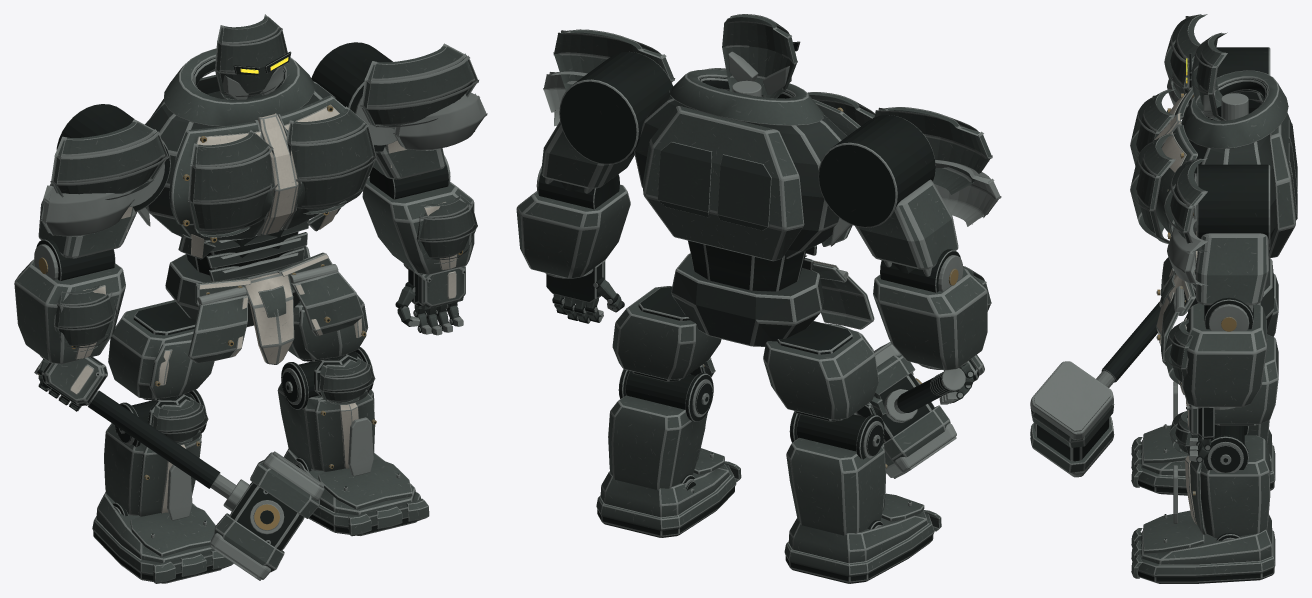
Rendered from tank-t3-harrow.glb.
3 renders of one model, left to right at view 1: azimuth 30°, elevation 25°; view 2: azimuth 150°, elevation 25°; view 3: azimuth 270°, elevation 25°, orthographic. The views are drawn at different scales.
Visible parts, largest first — view 1: chest__clay, weaponR__metal, elbowR__clay, elbowL__clay, ankleR__clay, pelvis__metal, kneeL__clay, pauldronL__clay, pauldronR__clay, kneeR__clay, ankleL__clay, hipR__clay (+24 smaller); view 2: chest__clay, chest__metal, pelvis__metal, shoulderR__metal, shoulderL__metal, elbowR__clay, kneeR__clay, kneeL__clay, elbowL__clay, hipR__clay, ankleR__clay, ankleL__clay (+22 smaller); view 3: chest__clay, elbowL__clay, ankleL__clay, weaponR__metal, kneeL__clay, shoulderL__metal, shoulderL__clay, chest__metal, ankleR__clay, weaponR__clay, hipL__clay, pauldronL__clay (+15 smaller).
Part boxes in pixels (x1=…): chest__clay: x1=151, y1=48, x2=376, y2=259; weaponR__metal: x1=34, y1=360, x2=324, y2=580; elbowR__clay: x1=14, y1=259, x2=125, y2=364; elbowL__clay: x1=362, y1=177, x2=477, y2=274; ankleR__clay: x1=92, y1=492, x2=233, y2=583; pelvis__metal: x1=165, y1=220, x2=338, y2=326; kneeL__clay: x1=277, y1=356, x2=375, y2=471; pauldronL__clay: x1=360, y1=43, x2=478, y2=129; pauldronR__clay: x1=50, y1=119, x2=169, y2=199; kneeR__clay: x1=104, y1=397, x2=208, y2=516; ankleL__clay: x1=284, y1=448, x2=429, y2=536; hipR__clay: x1=108, y1=300, x2=214, y2=399; chest__clay: x1=642, y1=68, x2=874, y2=261; chest__metal: x1=634, y1=77, x2=851, y2=258; pelvis__metal: x1=671, y1=240, x2=848, y2=346; shoulderR__metal: x1=818, y1=115, x2=935, y2=276; shoulderL__metal: x1=545, y1=51, x2=673, y2=193; elbowR__clay: x1=873, y1=266, x2=991, y2=370; kneeR__clay: x1=786, y1=392, x2=886, y2=535; kneeL__clay: x1=608, y1=357, x2=715, y2=489; elbowL__clay: x1=516, y1=184, x2=630, y2=278; hipR__clay: x1=763, y1=321, x2=878, y2=419; ankleR__clay: x1=784, y1=493, x2=941, y2=576; ankleL__clay: x1=596, y1=448, x2=741, y2=531; chest__clay: x1=1130, y1=70, x2=1295, y2=271; elbowL__clay: x1=1164, y1=303, x2=1266, y2=407; ankleL__clay: x1=1131, y1=510, x2=1275, y2=578; weaponR__metal: x1=1030, y1=301, x2=1160, y2=477; kneeL__clay: x1=1169, y1=410, x2=1270, y2=538; shoulderL__metal: x1=1193, y1=164, x2=1270, y2=312; shoulderL__clay: x1=1195, y1=231, x2=1268, y2=305; chest__metal: x1=1161, y1=78, x2=1297, y2=239; ankleR__clay: x1=1131, y1=425, x2=1275, y2=488; weaponR__clay: x1=1030, y1=402, x2=1114, y2=472; hipL__clay: x1=1214, y1=334, x2=1278, y2=424; pauldronL__clay: x1=1164, y1=158, x2=1207, y2=252.
Bounding box in the file's own units: 3.73 × 4.02 × 2.04.
Materials: 11 (10 with a texture image).
